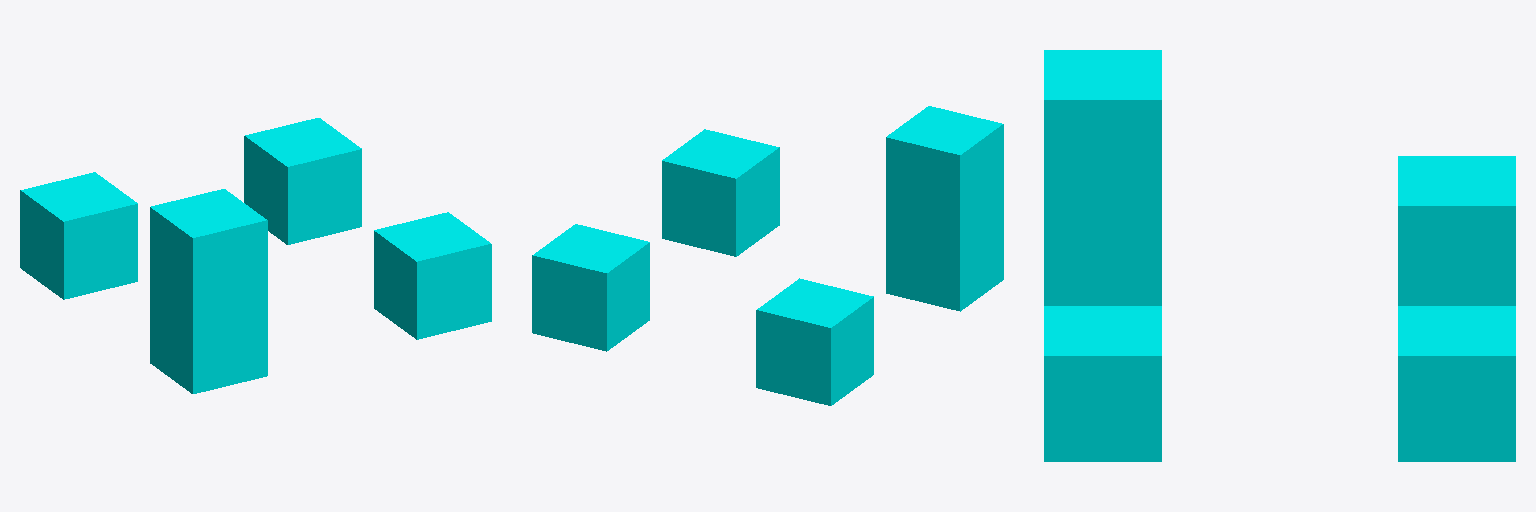
The robot description file, URDF, robot "azi":
<robot name="azi" xmlns:xacro="http://ros.org/wiki/xacro">
	<link name="box">
		<visual>
			 <geometry>
			   	 <box size="1 1 1" />
			 </geometry>
			 <material name="Cyan">
			     <color rgba="0 1.0 1.0 1.0"/>
			 </material>
	   </visual>

		<inertial>
			 <inertia ixx="100"  ixy="0"  ixz="0" iyy="100" iyz="0" izz="100" />
			<origin xyz="6 2 1" rpy="0 0 0"/>
			<mass value="1"/>
		</inertial>


	</link>
	<link name="wheel_1">
		<visual>
			 <geometry>
			   	 <box size="1 1 1" />
			 </geometry>
			 <material name="Cyan">
			     <color rgba="0 1.0 1.0 1.0"/>
			 </material>
	   </visual>
	</link>
	<link name="wheel_2">

	<visual>
			<geometry>
			  	 <box size="1 1 1" />
			</geometry>
			<material name="Cyan">
			     <color rgba="0 1.0 1.0 1.0"/>
			 </material>
	   </visual>
	</link>
	<link name="wheel_3">
	<visual>
		<geometry>
			<box size="1 1 1" />
		</geometry>
			 <material name="Cyan">
			     <color rgba="0 1.0 1.0 1.0"/>
			 </material>
	   </visual>
	</link>
	<link name="wheel_4">
	<visual>
		     
			     <geometry>
			      	 <box size="1 1 1" />
			     </geometry>
			 <material name="Cyan">
			     <color rgba="0 1.0 1.0 1.0"/>
			 </material>
	   </visual>
	</link>

	<joint name="wh1_joint" type="fixed">
		<origin xyz="0 0 1" rpy="0 0 0"/>
		<parent link="box"/>
		<child link="wheel_1"/>
	</joint>

	<joint name="wh2_joint" type="fixed">
		<origin xyz="3 0 0" rpy="0 0 0"/>
		<parent link="box"/>
		<child link="wheel_2"/>
	</joint>

	<joint name="wh3_joint" type="fixed">
		<origin xyz="0 3 0" rpy="0 0 0"/>
		<parent link="box"/>
		<child link="wheel_3"/>
	</joint>

	<joint name="wh4_joint" type="fixed">
		<origin xyz="3 3 0" rpy="0 0 0"/>
		<parent link="box"/>
		<child link="wheel_4"/>
	</joint>

</robot>

--- Facts derived from the render (not from the file) ---
3 views of the same robot in one strip: view 1: azimuth 30°, elevation 25°; view 2: azimuth 150°, elevation 25°; view 3: azimuth 270°, elevation 25° (orthographic).
Model azi with 5 links and 4 joints (4 fixed), rooted at box, posed every joint at zero.
Links seen in each view (by area): view 1: wheel_2, wheel_3, wheel_1, wheel_4, box; view 2: wheel_2, wheel_3, wheel_4, wheel_1, box; view 3: wheel_1, wheel_2, wheel_4, wheel_3, box.
Link boxes in pixels (<box>): wheel_2: <box>374,212,491,339</box>; wheel_3: <box>20,172,137,299</box>; wheel_1: <box>150,189,267,315</box>; wheel_4: <box>244,118,361,244</box>; box: <box>150,285,267,393</box>; wheel_2: <box>662,129,779,256</box>; wheel_3: <box>756,278,873,405</box>; wheel_4: <box>532,224,649,351</box>; wheel_1: <box>886,106,1003,232</box>; box: <box>886,202,1003,311</box>; wheel_1: <box>1044,50,1161,205</box>; wheel_2: <box>1044,306,1161,461</box>; wheel_4: <box>1398,306,1515,461</box>; wheel_3: <box>1398,156,1515,305</box>; box: <box>1044,206,1161,305</box>.
Size in the robot's own frame: 4 by 4 by 2 metres.
Geometry: primitives only (box / cylinder / sphere), no mesh files.
